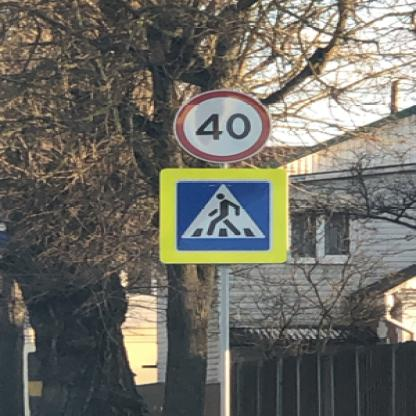crosswalk: (173, 178, 272, 250)
speedlimit: (172, 88, 269, 160)
